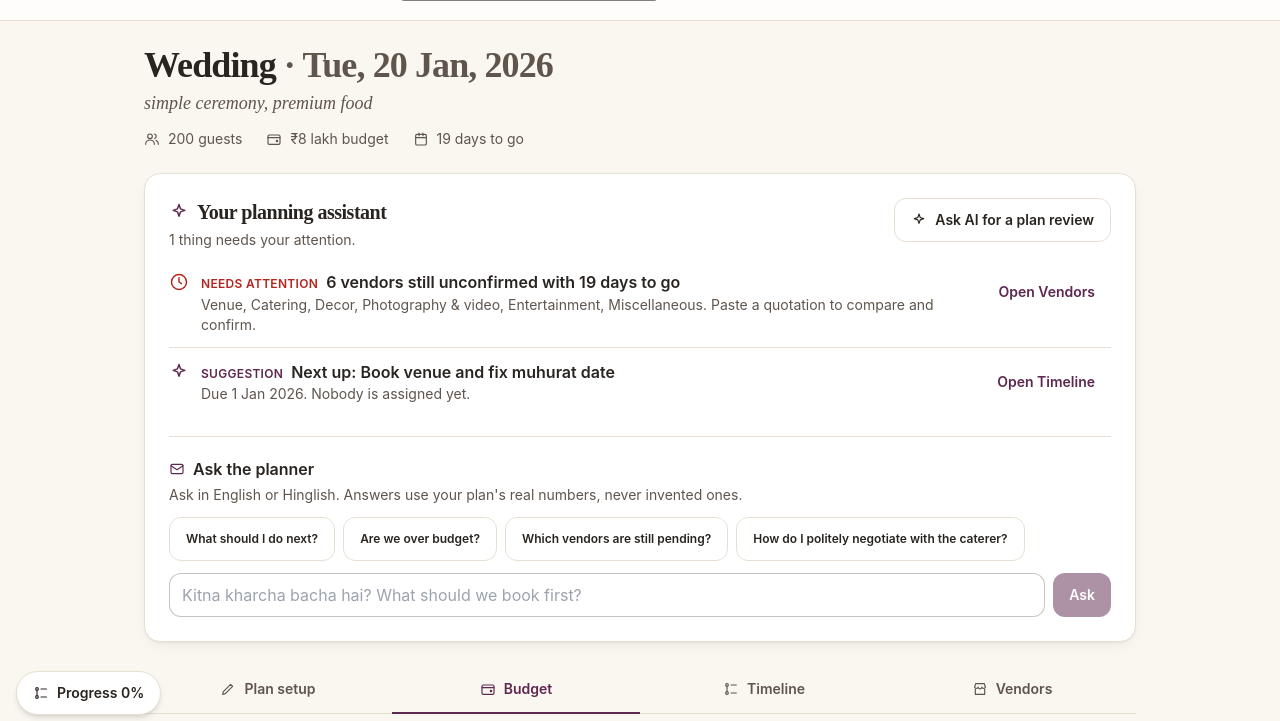
timeline › compresses the plan for a close event instead of showing everything overdue
What coordinates should you click on to do the following:
click the tab "Timeline"
I would click on:
 (764, 690)
Its box is [640, 666, 888, 714].
(page scrolled)
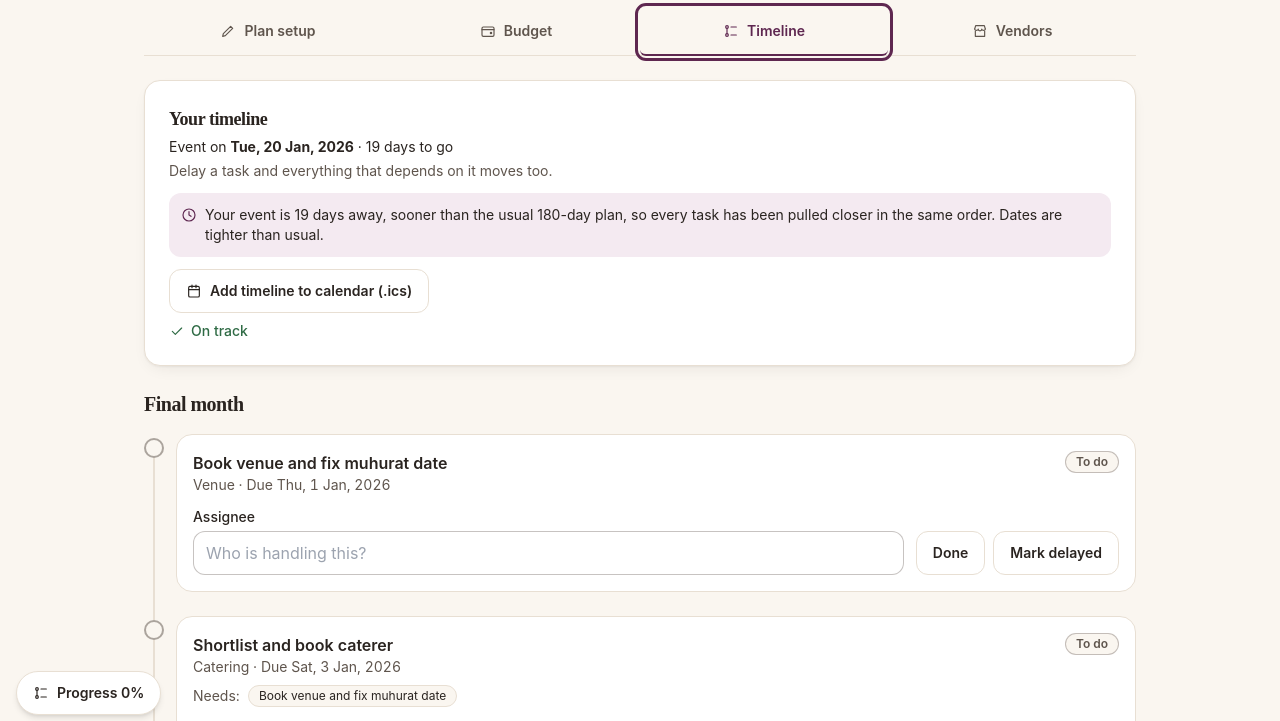
Now the element with test id "compressed-note" shows "Your event is 19 days away, sooner than the usual 180-day plan", box [169, 193, 1111, 257]
Now the text "On track" is shown, box [169, 322, 248, 339]
